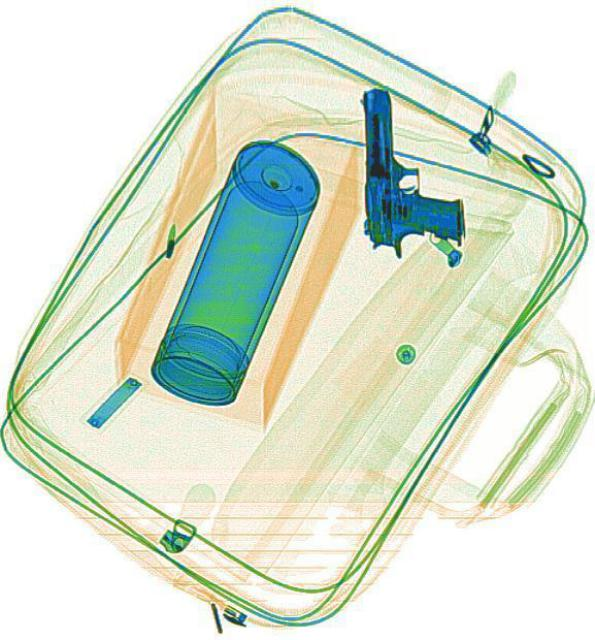Gun: (358, 83, 464, 259)
